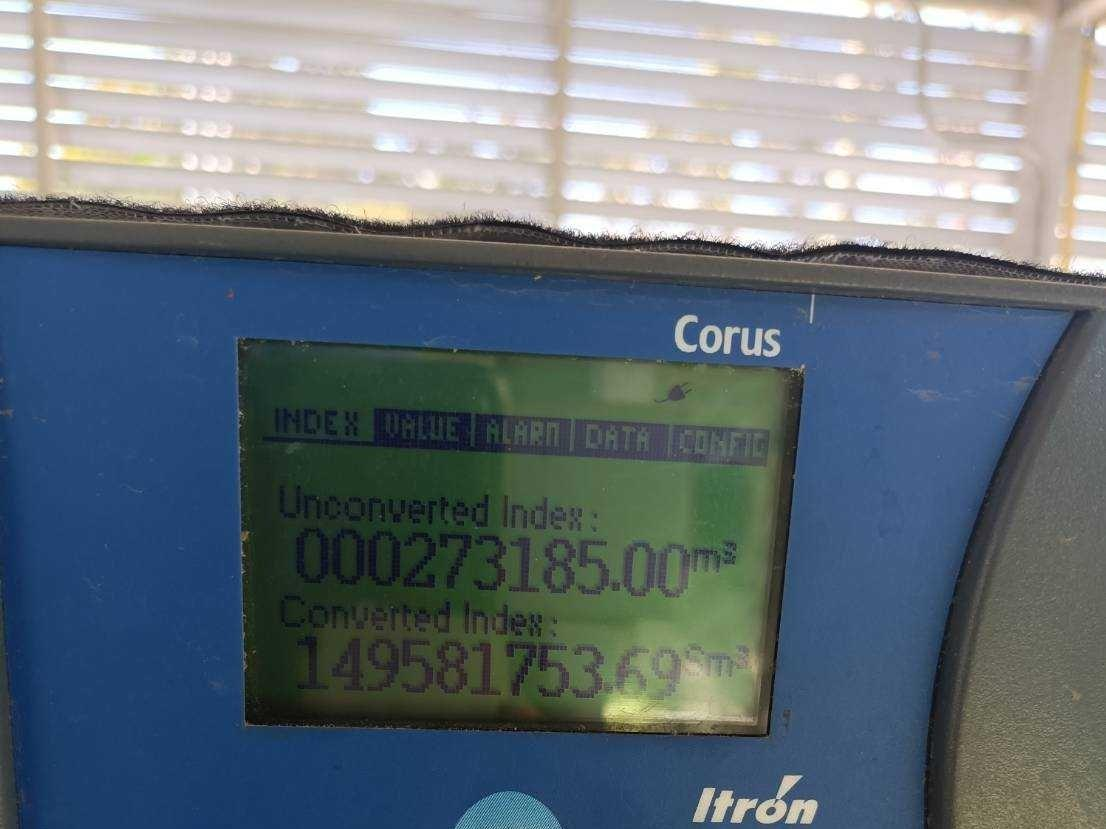digital_screen: (232, 337, 802, 736)
